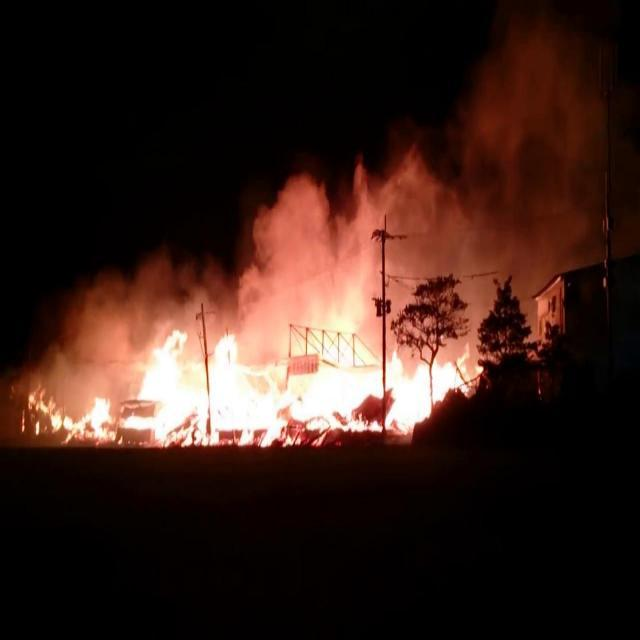Fire: (19, 334, 490, 439)
